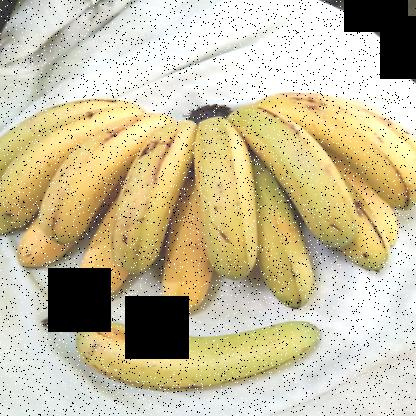ripe: (65, 312, 322, 394), (275, 72, 415, 203), (232, 104, 357, 248), (100, 118, 200, 273), (183, 117, 266, 279)
